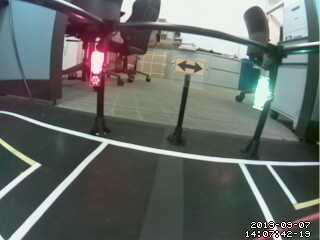Left_Right_sign: (176, 54, 209, 75)
Traffic_light_green: (254, 73, 273, 114)
Traffic_light_red: (86, 49, 107, 93)
